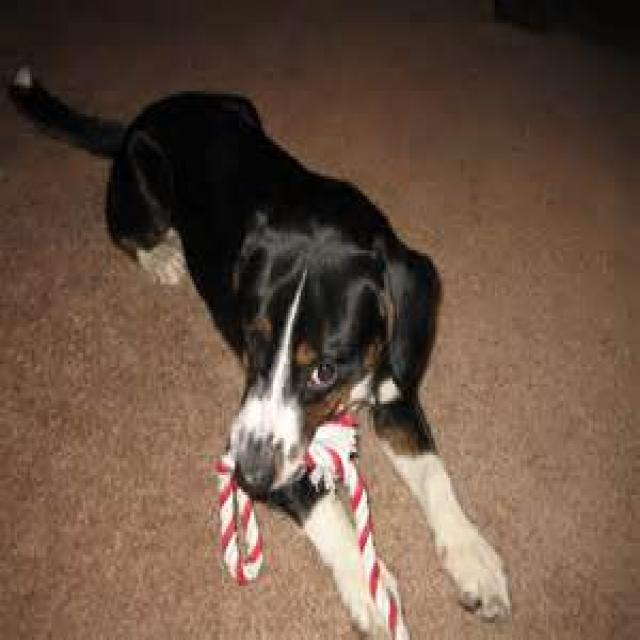dog: (9, 65, 510, 640)
